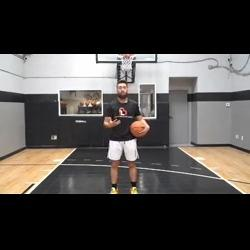BasketBall: (128, 117, 150, 138)
